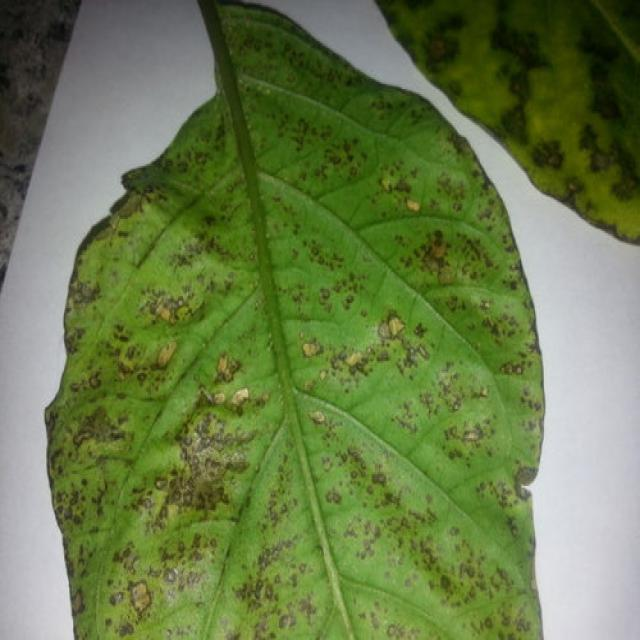Bacterial Spot: (72, 114, 520, 640)
